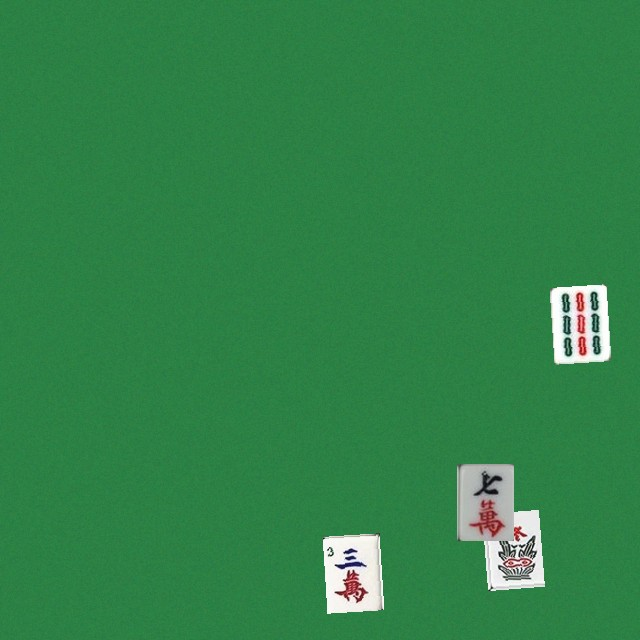tile: (322, 533, 379, 610), (482, 509, 539, 586), (549, 284, 606, 361), (456, 463, 513, 540)
